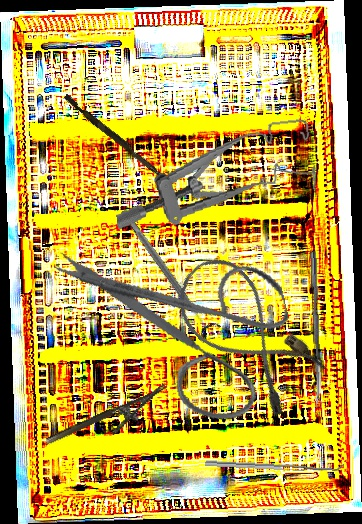Cannula: (161, 245, 331, 421)
Fixation Ring: (113, 203, 222, 341)
Iris Scissors: (50, 202, 309, 452)
Needle Holder: (44, 383, 176, 461)
Pusher: (61, 93, 173, 184)
Spatula Surgical: (205, 454, 344, 474)
Speculum: (107, 116, 320, 233)
Surgical Spoon: (309, 250, 322, 409)
